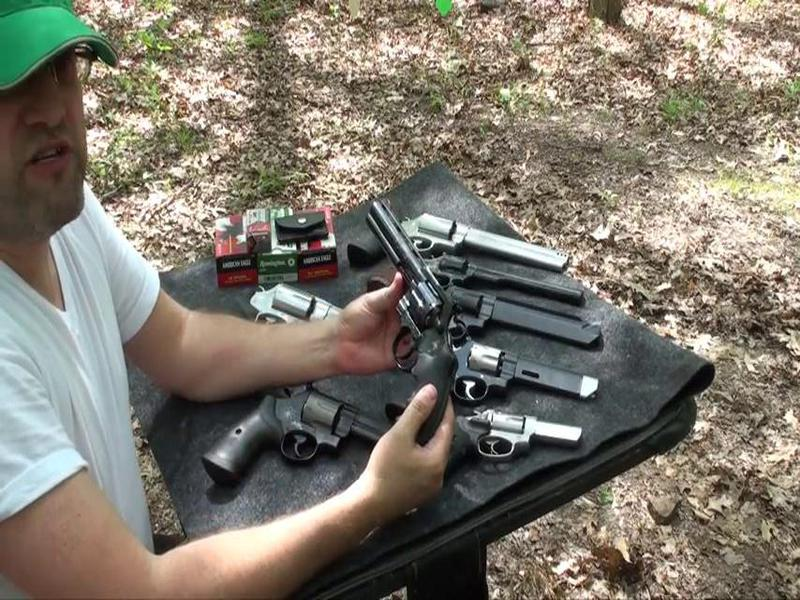Revolver: (349, 196, 459, 383)
